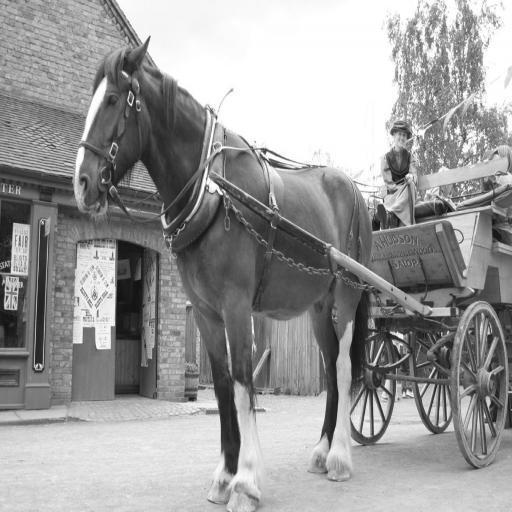horse: (72, 36, 374, 512)
